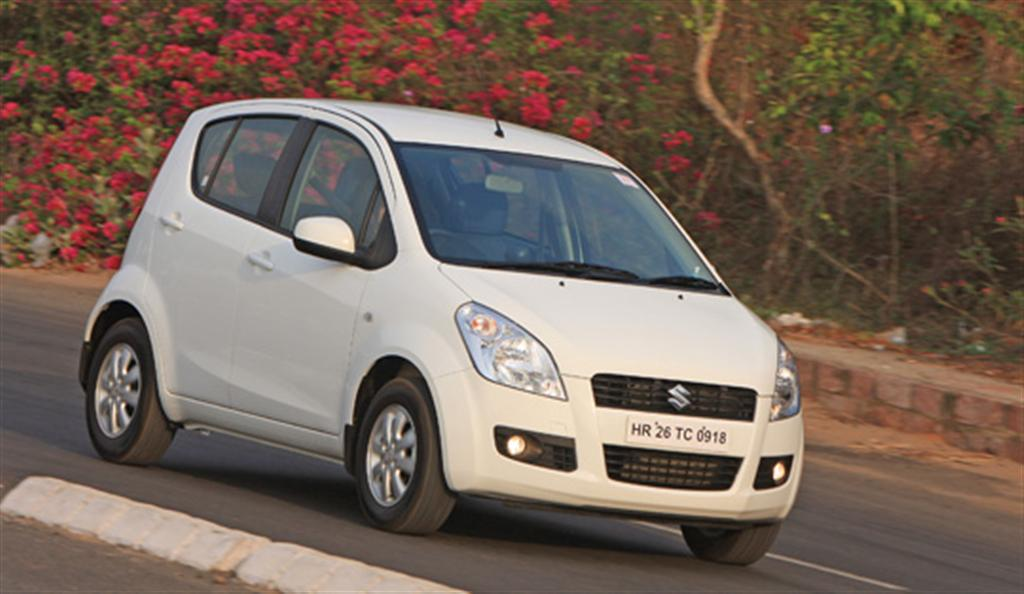number_plate: (622, 406, 732, 452)
